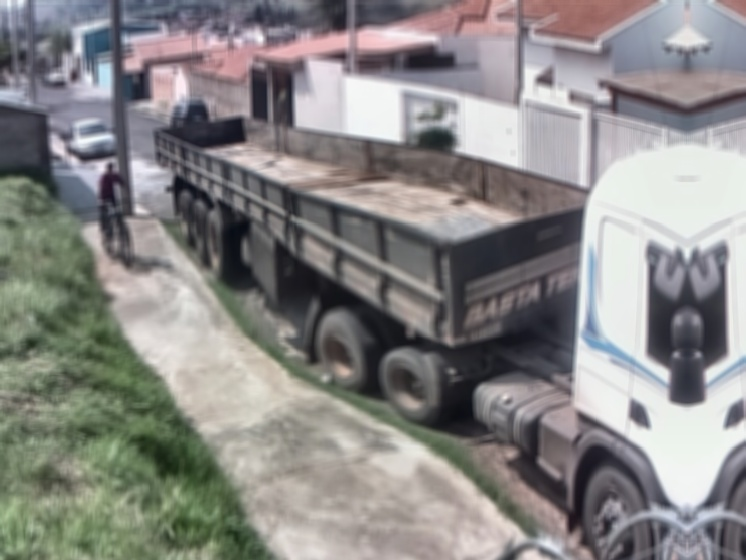person: (97, 160, 136, 242)
